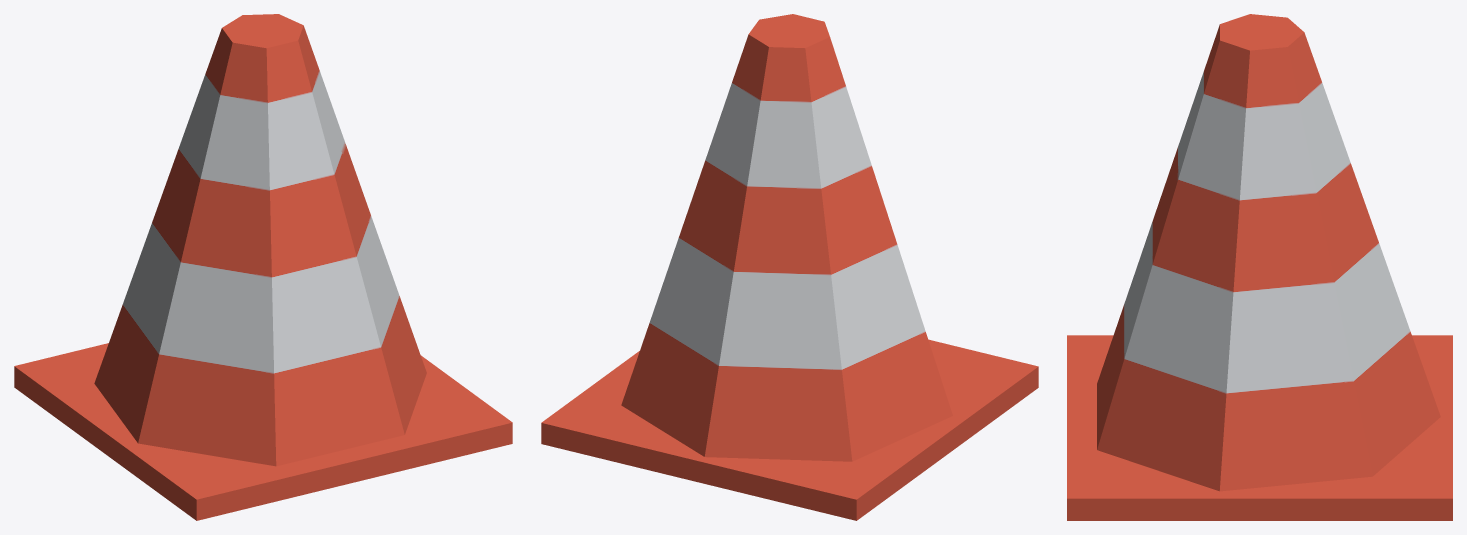
File: plot_2.glb
3 views of the same model, side by side, from view 1: azimuth 30°, elevation 25°; view 2: azimuth 150°, elevation 25°; view 3: azimuth 270°, elevation 25° (orthographic). The views are drawn at different scales.
Parts seen in each view (by area): view 1: Plan; view 2: Plan; view 3: Plan.
Boxes of the visible parts, x1,y1,x2,y2 form: Plan: [14, 14, 512, 520]; Plan: [541, 14, 1038, 520]; Plan: [1067, 14, 1452, 520].
Bounding box in the file's own units: 1.22 × 1.41 × 1.22.
1 material, 1 textured.
